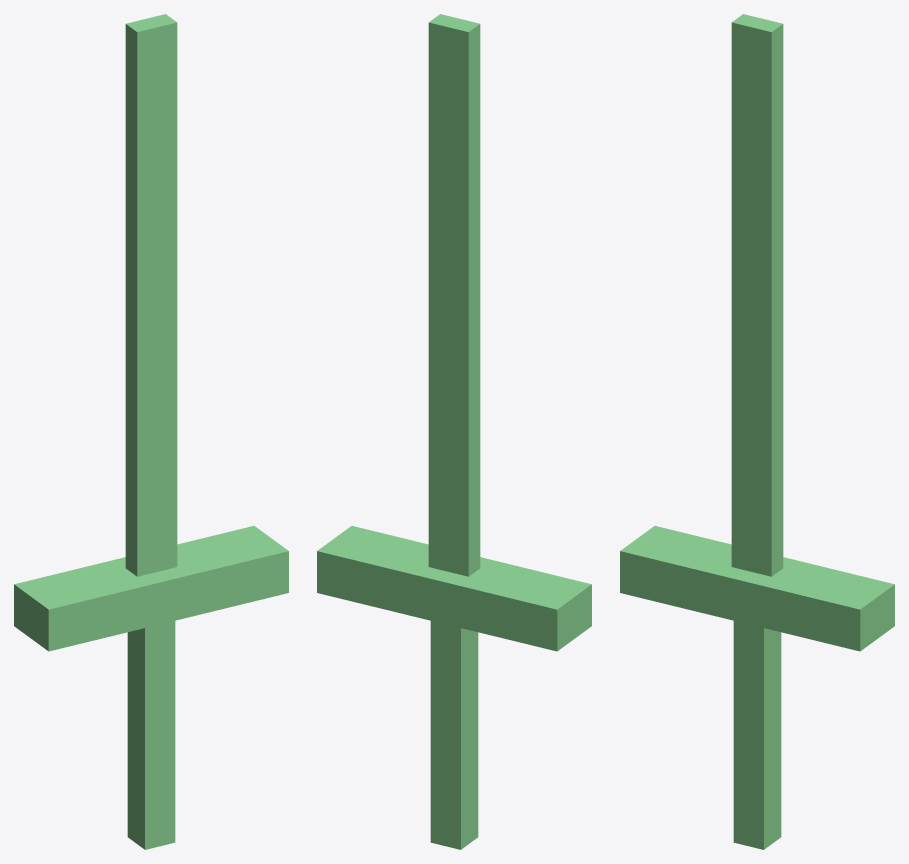
File: venomfang_kris.glb
The picture shows the model from 3 angles, left to right: view 1: azimuth 30°, elevation 25°; view 2: azimuth 150°, elevation 25°; view 3: azimuth 330°, elevation 25°; orthographic projection.
Parts seen in each view (by area): view 1: venomfang_kris; view 2: venomfang_kris; view 3: venomfang_kris.
Part boxes in pixels (<box>): venomfang_kris: <box>14,14,288,849</box>; venomfang_kris: <box>317,14,591,849</box>; venomfang_kris: <box>620,14,894,849</box>.
Bounding box in the file's own units: 0.24 × 0.78 × 0.06.
